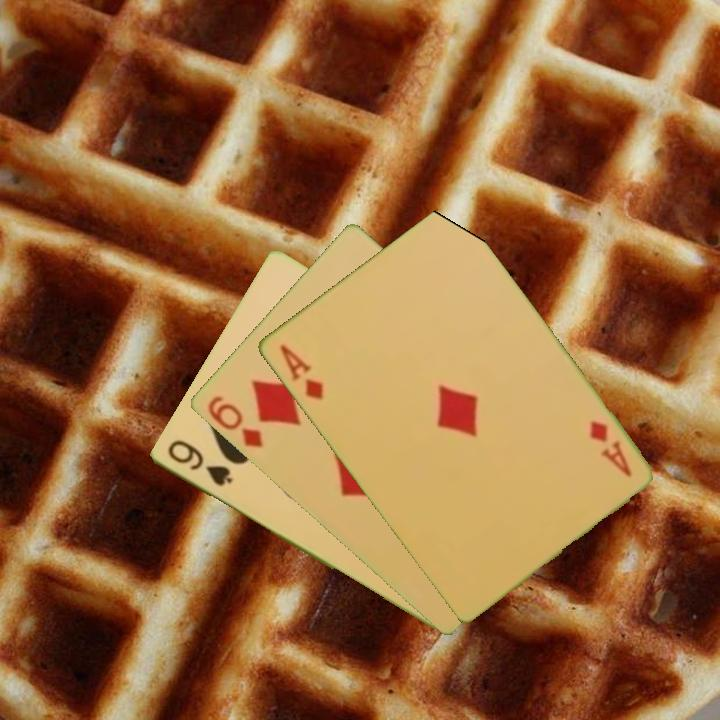6d: (203, 392, 266, 451)
9s: (163, 436, 235, 490)
Ad: (275, 340, 326, 403), (585, 416, 634, 480)
